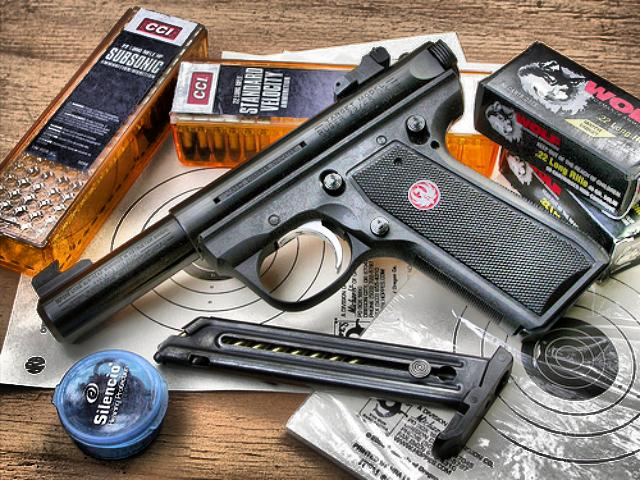pistol: (28, 39, 610, 343)
